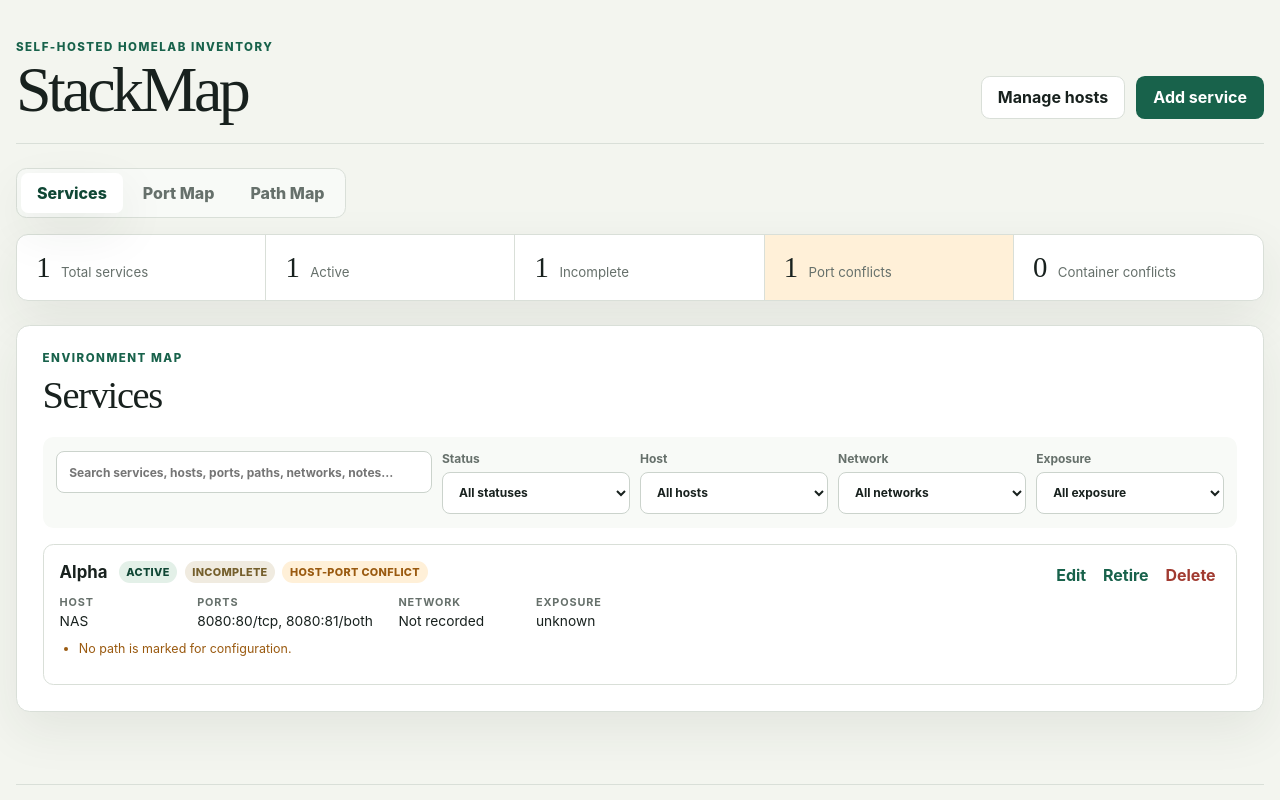
it: StackMap service workflows › does not render a service as also using its own conflicting port
Step 1. Click the button "Port Map" → (179, 193), box [127, 173, 230, 213]
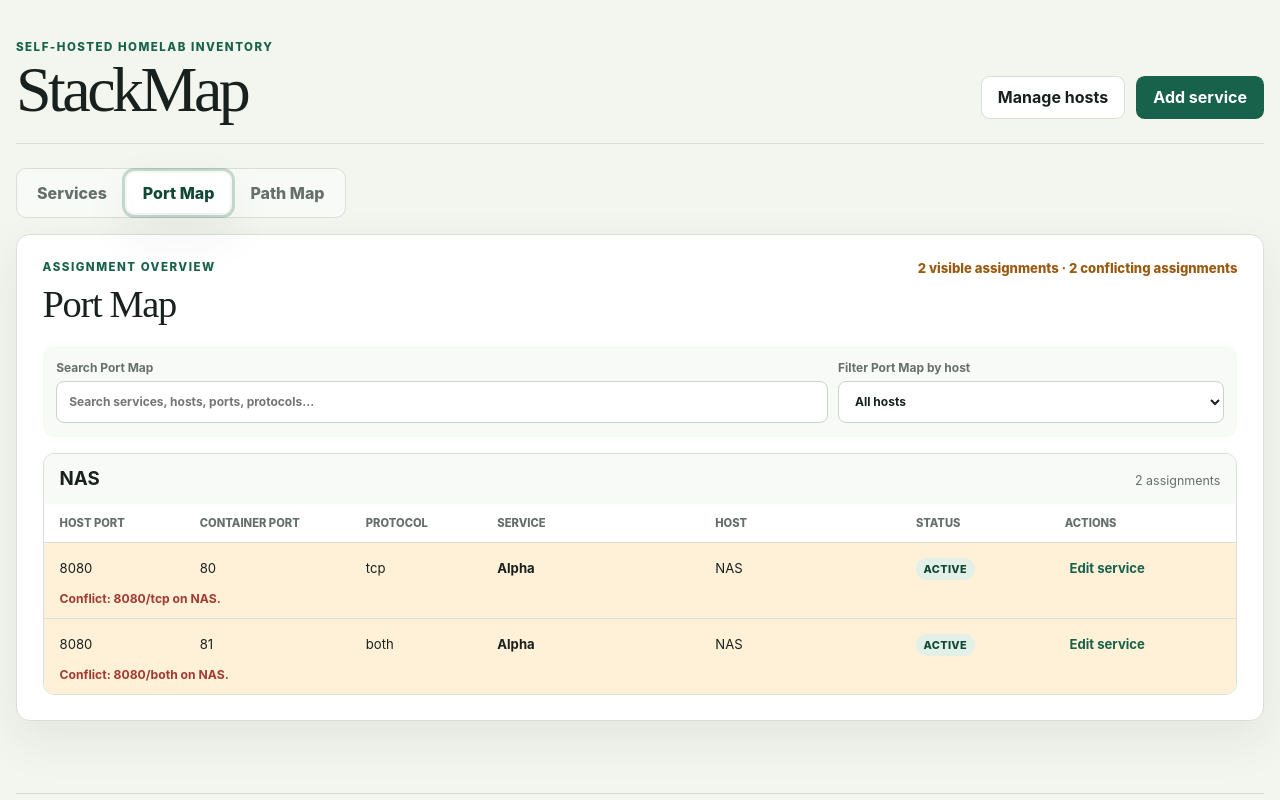
Check: the text "Conflict: 8080/tcp on NAS." is shown 2 times, box [60, 591, 221, 606]; [60, 667, 229, 682]
